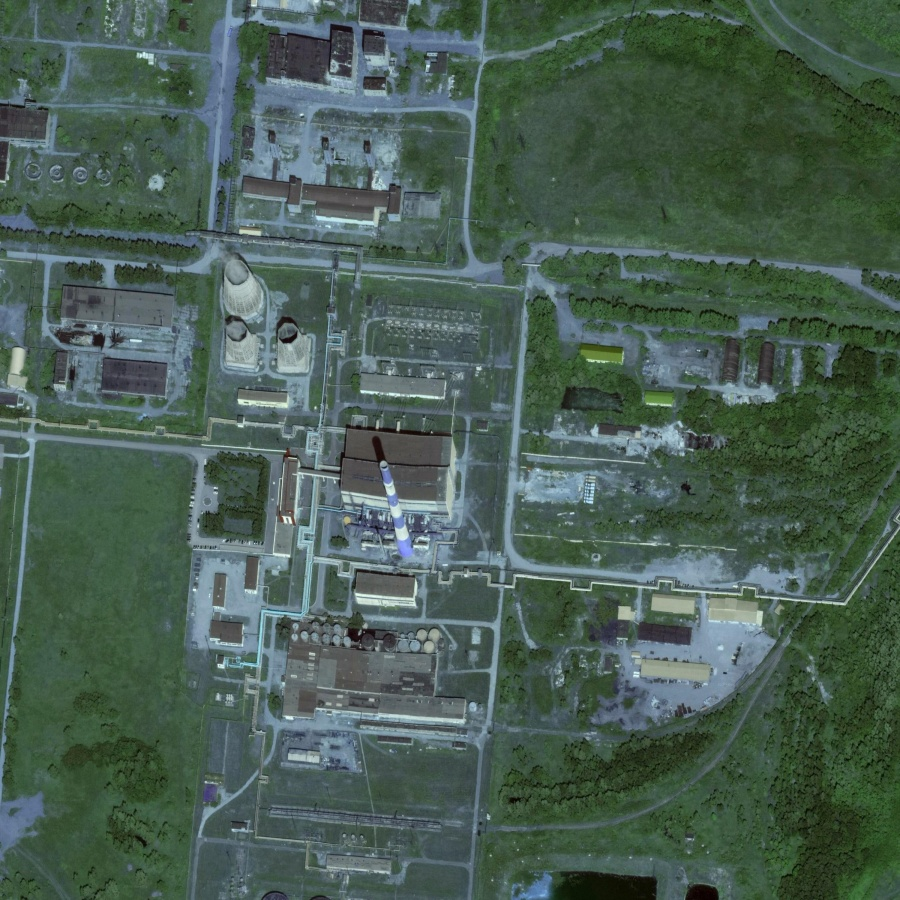PowerPlant: (194, 249, 487, 608)
